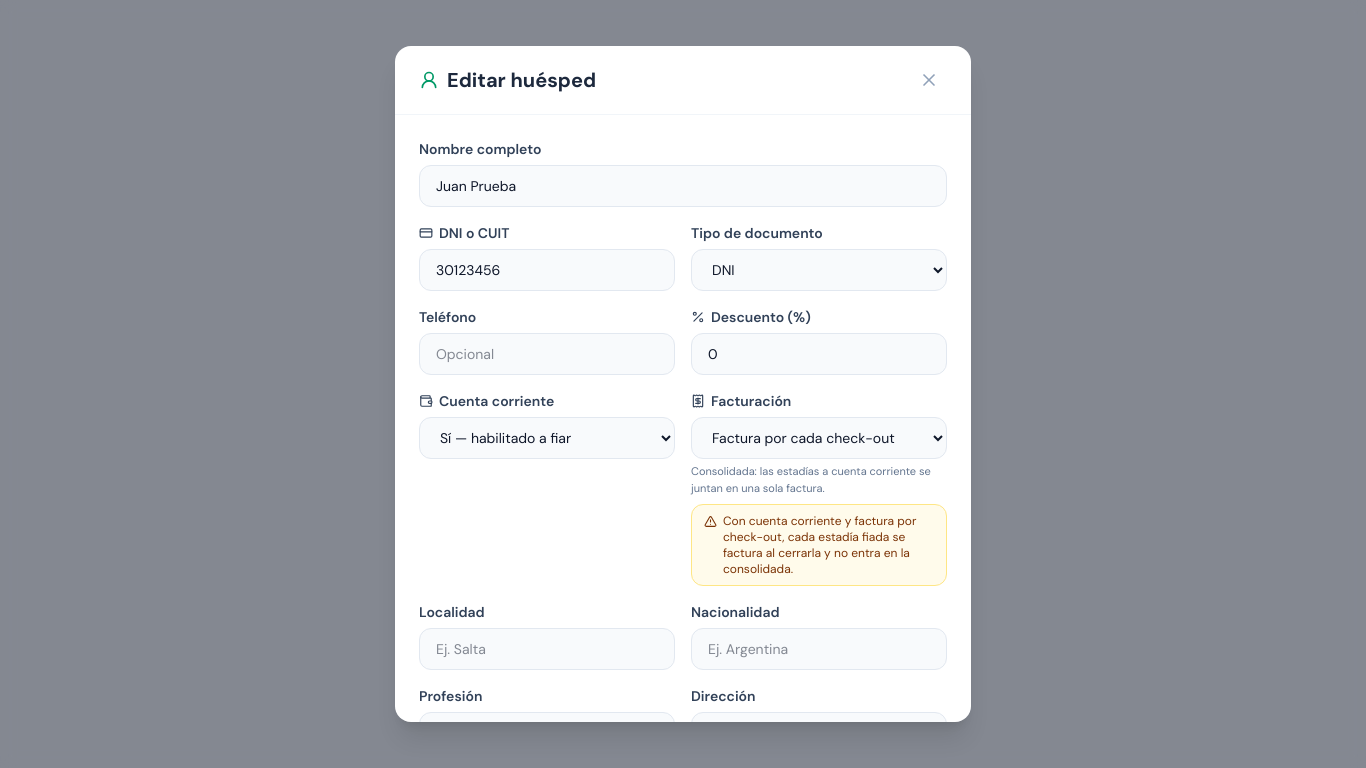
Test: GuestModal: cuenta corriente y modo de facturación › con Cuenta corriente = No no cambia nada
The image size is (1366, 768).
Check: the text "no entra en la consolidada" is shown, box [723,513,916,577]
Select "No" in the dropdown labelled "Cuenta corriente" at (547, 438), box [419,417,675,459]
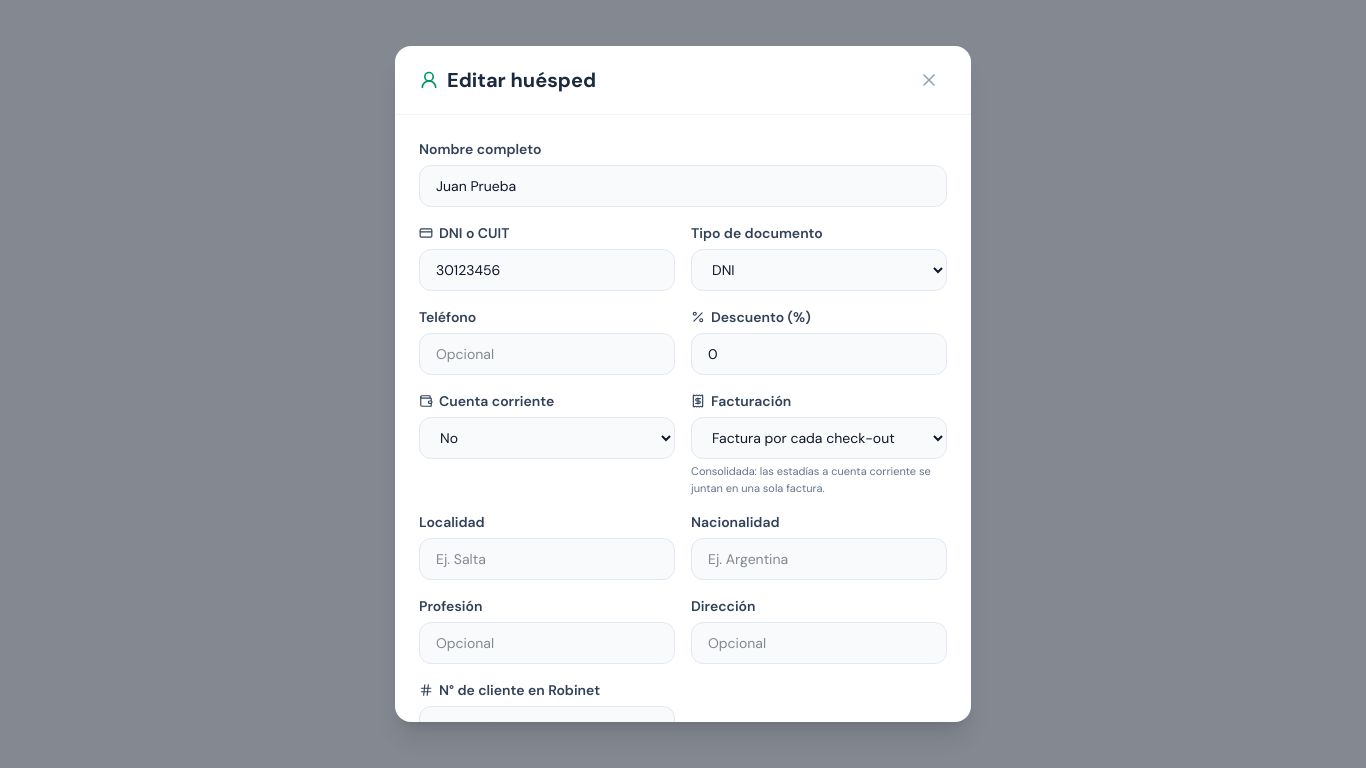
Check: the dropdown labelled "Facturación" shows "Factura por cada check-out", box [691,417,947,459]
Check: the text "no entra en la consolidada" is gone
